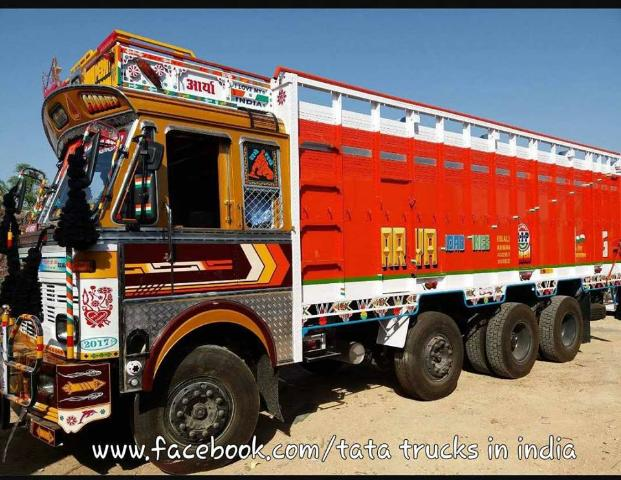truck: (1, 20, 621, 453)
